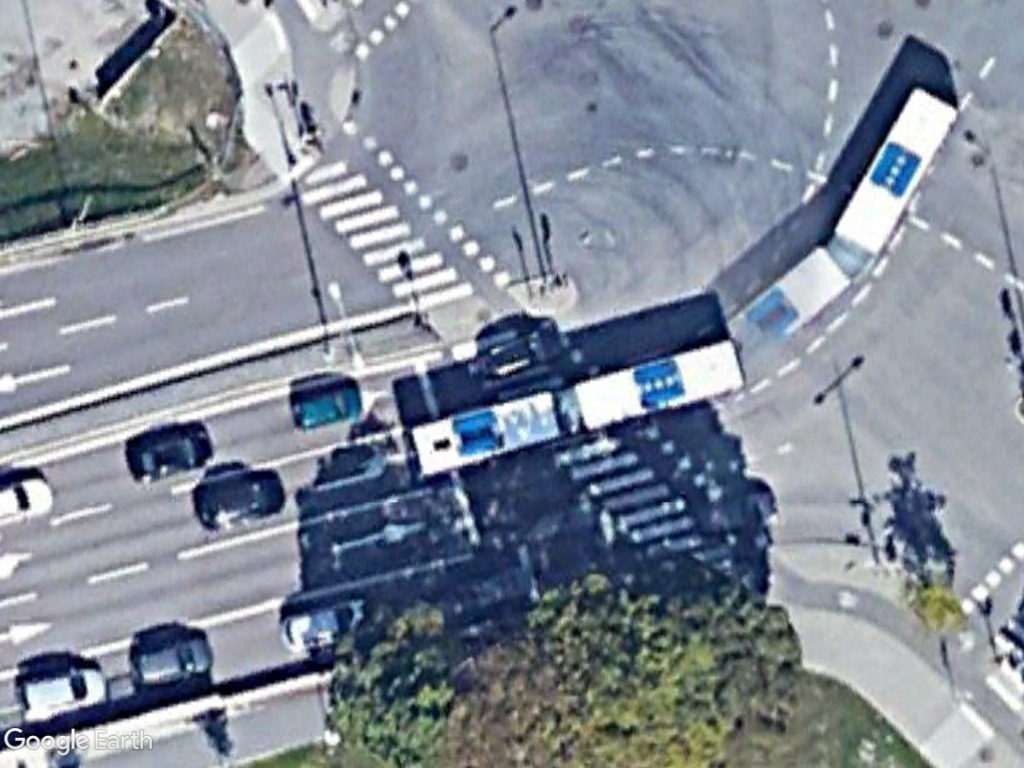bus: (398, 330, 750, 487), (826, 81, 965, 262)
car: (192, 468, 289, 534), (123, 421, 215, 488), (12, 660, 111, 722), (126, 630, 217, 693), (283, 379, 365, 435)
